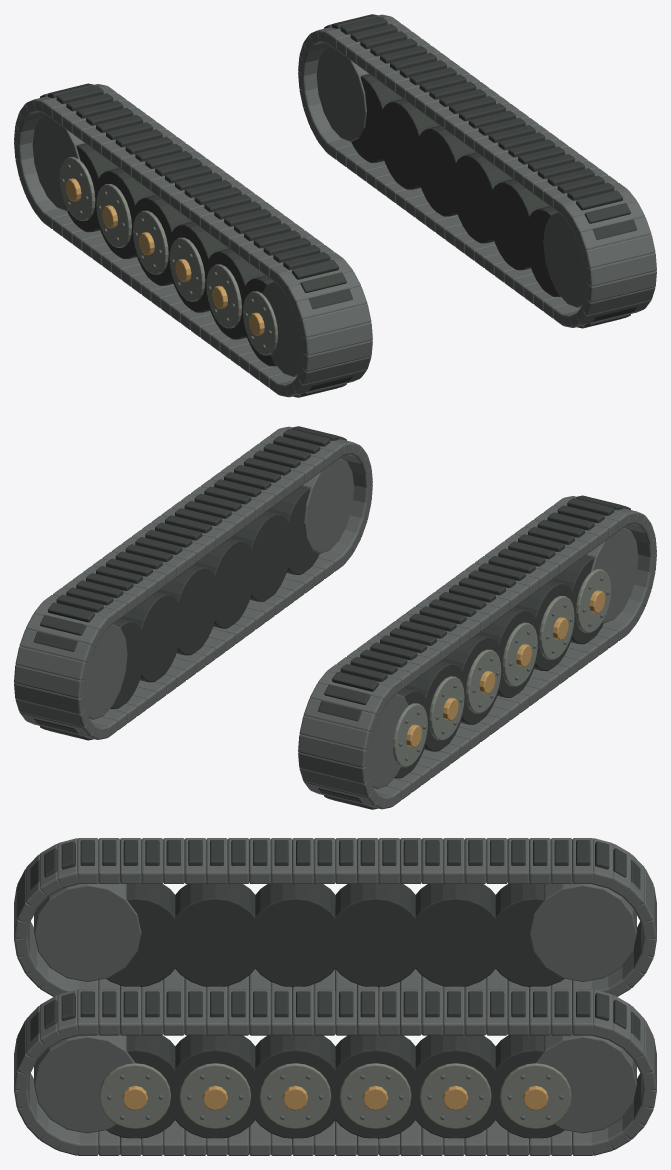
File: STK-T01.fbx
3 renders of one model, top to bottom at view 1: azimuth 30°, elevation 25°; view 2: azimuth 150°, elevation 25°; view 3: azimuth 270°, elevation 25°, orthographic. The views are drawn at different scales.
Visible parts, largest first — view 1: STK-T01_Steel, STK-T01_Rubber, STK-T01_Edge, STK-T01_Brass; view 2: STK-T01_Steel, STK-T01_Rubber, STK-T01_Edge, STK-T01_Brass; view 3: STK-T01_Steel, STK-T01_Rubber, STK-T01_Edge, STK-T01_Brass.
Part boxes in pixels (x1,y1,x2,y2): STK-T01_Steel: (14,14,656,397); STK-T01_Rubber: (40,14,636,397); STK-T01_Edge: (59,157,277,355); STK-T01_Brass: (65,178,264,335); STK-T01_Steel: (14,426,656,809); STK-T01_Rubber: (34,426,630,809); STK-T01_Edge: (393,569,611,767); STK-T01_Brass: (406,590,605,747); STK-T01_Steel: (14,838,656,1155); STK-T01_Rubber: (30,840,640,1138); STK-T01_Edge: (99,1063,571,1128); STK-T01_Brass: (122,1085,548,1110).
Size of the model in its own units: 419 by 149 by 610.
